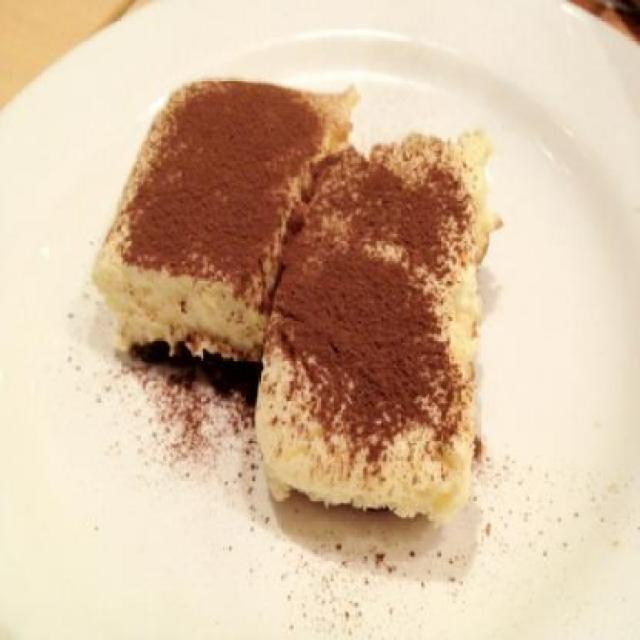Tiramisu: (269, 140, 488, 529), (134, 52, 294, 340)
